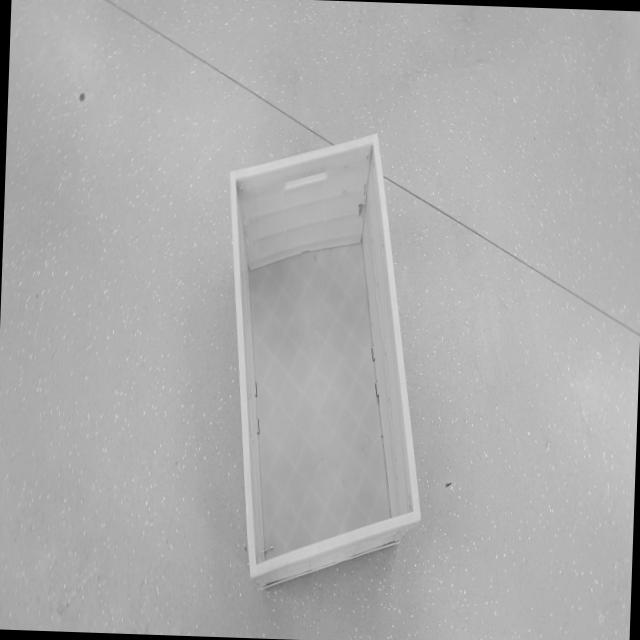box: (203, 114, 438, 601)
